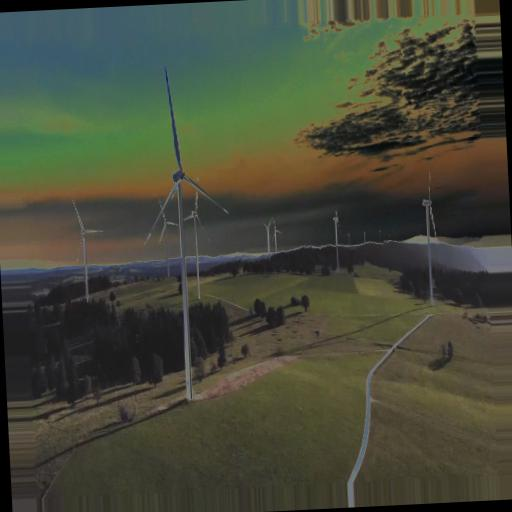wind turbine: (144, 67, 230, 406), (70, 202, 106, 296), (419, 171, 441, 305)
